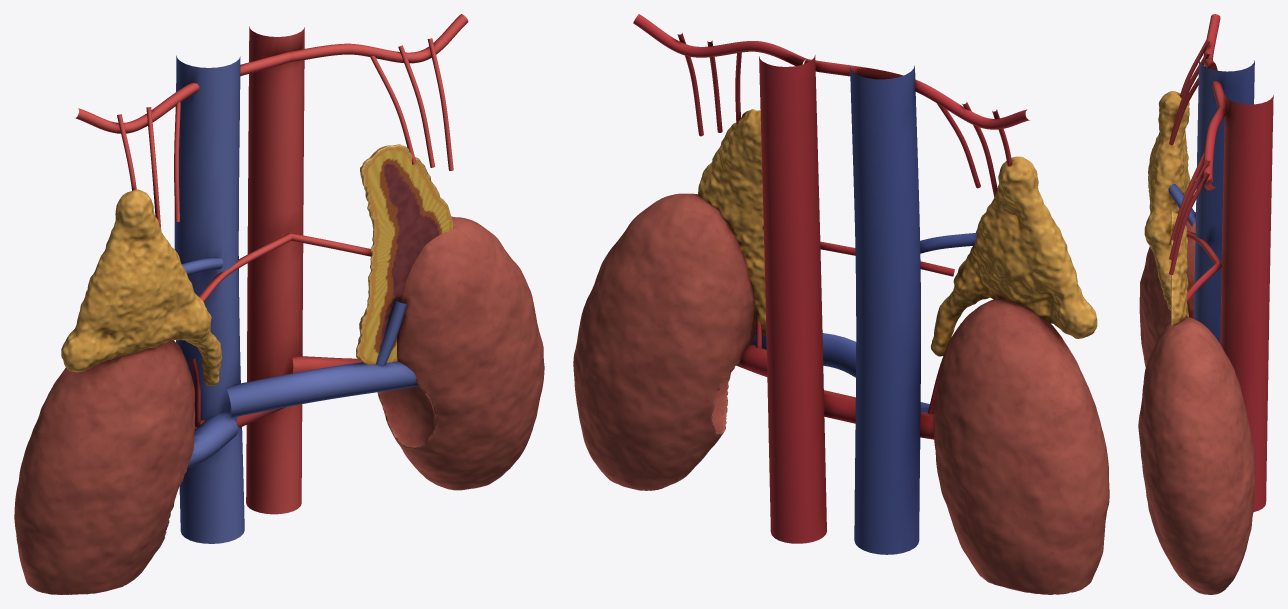
Rendered from adrenal-glands.1b76e2f6.glb.
3 renders of one model, left to right at view 1: azimuth 30°, elevation 25°; view 2: azimuth 150°, elevation 25°; view 3: azimuth 270°, elevation 25°, orthographic. The views are drawn at different scales.
Visible parts, largest first — view 1: Kidneys, Suprarenal arteries, Suprarenal and renal veins, Right suprarenal gland, Left suprarenal gland; view 2: Kidneys, Suprarenal arteries, Suprarenal and renal veins, Right suprarenal gland, Left suprarenal gland; view 3: Kidneys, Suprarenal arteries, Suprarenal and renal veins, Right suprarenal gland, Left suprarenal gland.
Boxes of the visible parts, x1,y1,x2,y2 form: Kidneys: (14, 216, 544, 594); Suprarenal arteries: (75, 14, 468, 514); Suprarenal and renal veins: (174, 55, 418, 543); Right suprarenal gland: (61, 189, 222, 385); Left suprarenal gland: (356, 144, 453, 364); Kidneys: (573, 193, 1109, 594); Suprarenal arteries: (633, 14, 1029, 543); Suprarenal and renal veins: (752, 65, 976, 554); Right suprarenal gland: (930, 156, 1097, 356); Left suprarenal gland: (698, 109, 766, 335); Kidneys: (1138, 212, 1255, 594); Suprarenal arteries: (1169, 14, 1273, 512); Suprarenal and renal veins: (1168, 59, 1254, 343); Right suprarenal gland: (1144, 91, 1190, 310); Left suprarenal gland: (1171, 211, 1188, 327).
Bounding box in the file's own units: 2.79 × 2.47 × 0.7255.
